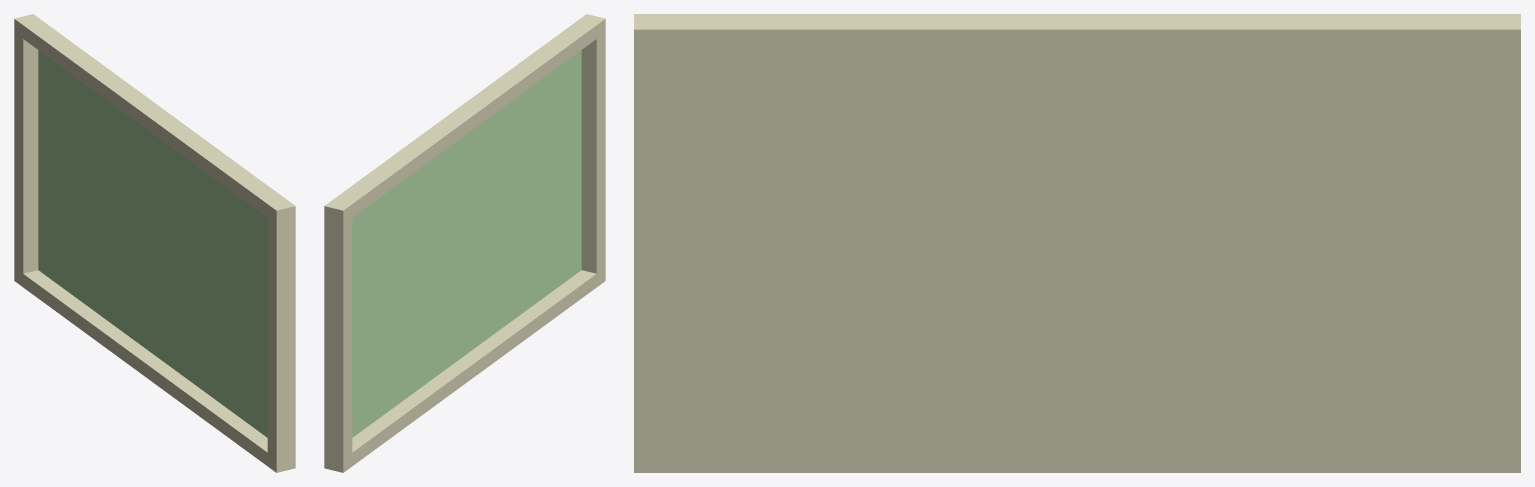
Rendered from picframe.fbx.
The picture shows the model from 3 angles, left to right: view 1: azimuth 30°, elevation 25°; view 2: azimuth 150°, elevation 25°; view 3: azimuth 270°, elevation 25°; orthographic projection. The views are drawn at different scales.
Visible parts, largest first — view 1: Cube.004; view 2: Cube.004; view 3: Cube.004.
Boxes of the visible parts, box(x1,y1,x2,y2) form: Cube.004: box(14, 14, 295, 472); Cube.004: box(324, 14, 605, 472); Cube.004: box(634, 14, 1520, 472).
Bounding box in the file's own units: 35.11 × 460 × 834.
